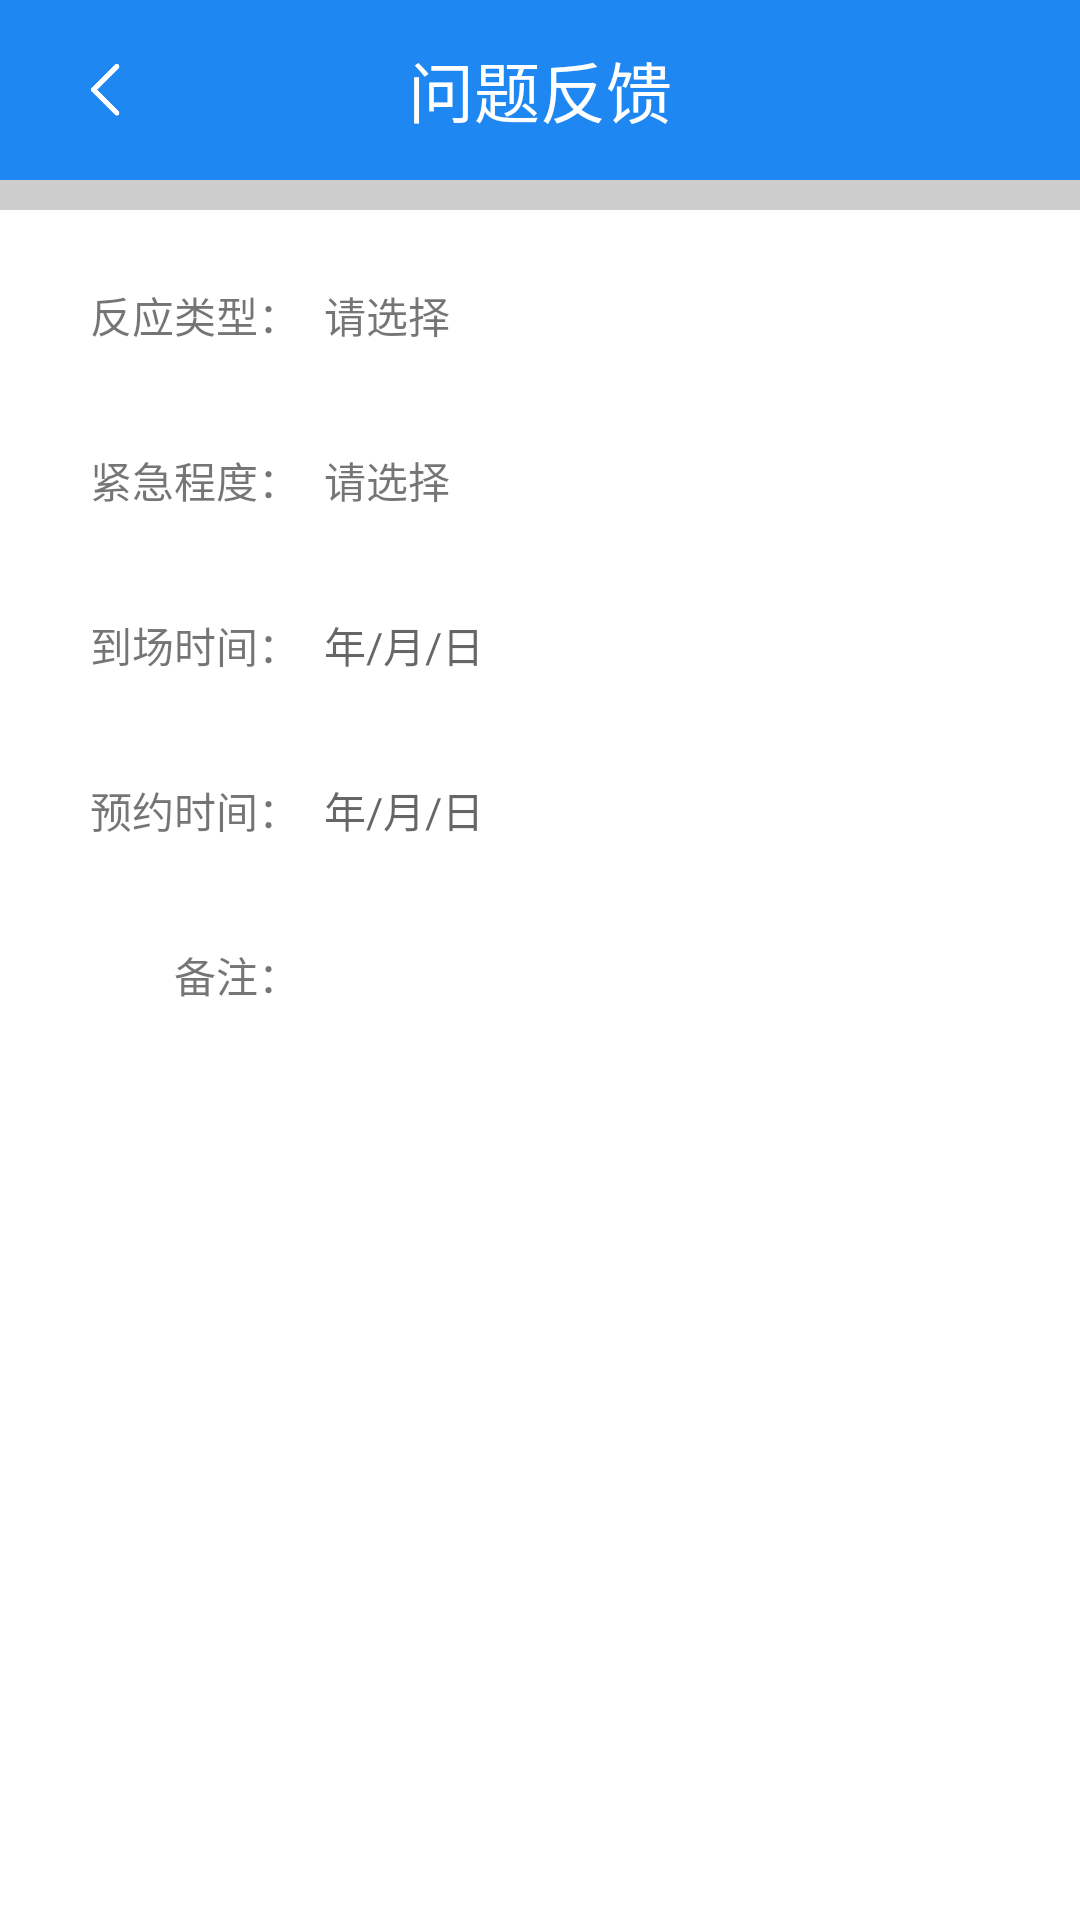

Locate icon controls on the screen. Image size 1080px×1920px, boxes as (x1, y1, x2, y2).
back: (91, 64, 120, 116)
